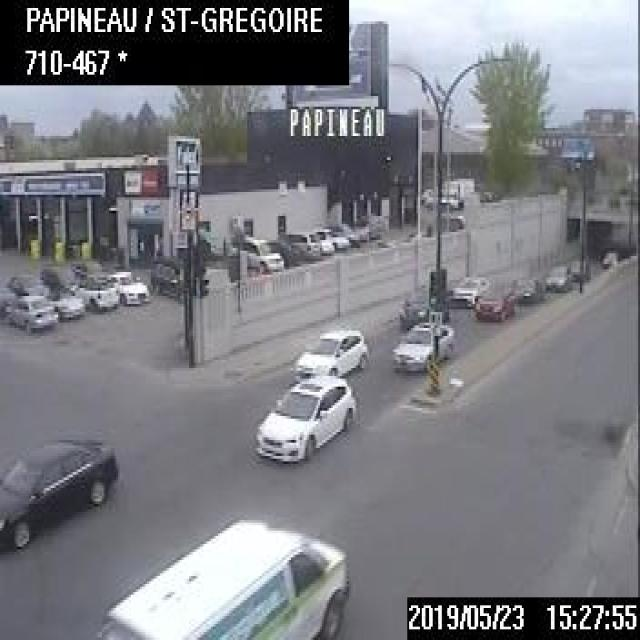vehicle: (98, 515, 346, 637), (0, 435, 118, 549), (252, 371, 354, 463), (292, 324, 370, 376), (389, 320, 456, 371), (398, 284, 448, 325), (5, 292, 55, 332), (470, 279, 516, 320), (106, 263, 149, 306), (237, 231, 283, 271), (73, 270, 117, 311), (447, 270, 487, 308), (46, 284, 84, 322), (150, 258, 182, 300), (436, 174, 476, 207), (284, 228, 320, 262), (38, 261, 76, 291), (5, 269, 50, 294), (507, 277, 547, 305), (544, 260, 572, 293), (568, 255, 590, 285), (322, 227, 347, 250), (600, 245, 624, 267), (315, 227, 331, 252)
